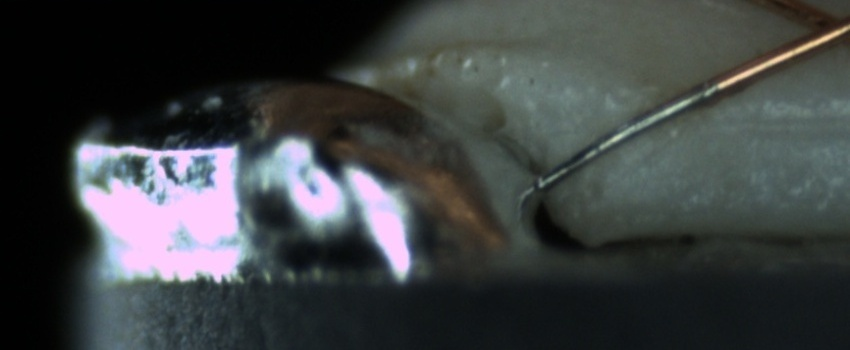CL: (775, 1, 850, 60)
DL: (698, 84, 848, 153)
TS: (537, 79, 716, 194)
TTCW: (528, 50, 740, 187)
